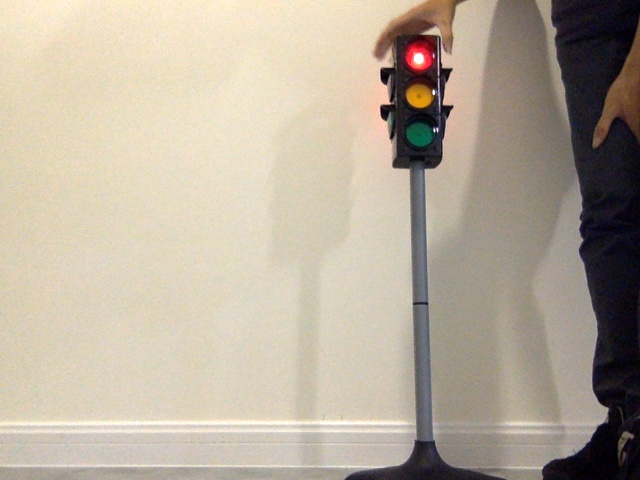red: (396, 40, 439, 150)
